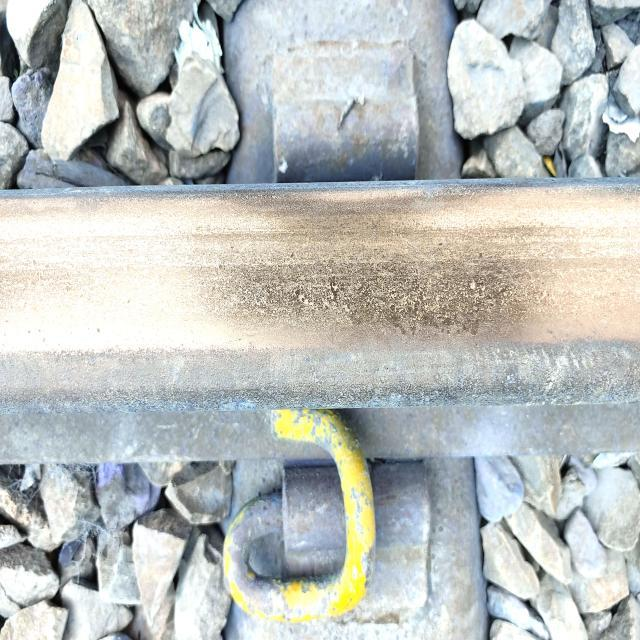Good Fasteners: (203, 405, 443, 635)
Missing Fastener: (243, 22, 434, 187)
